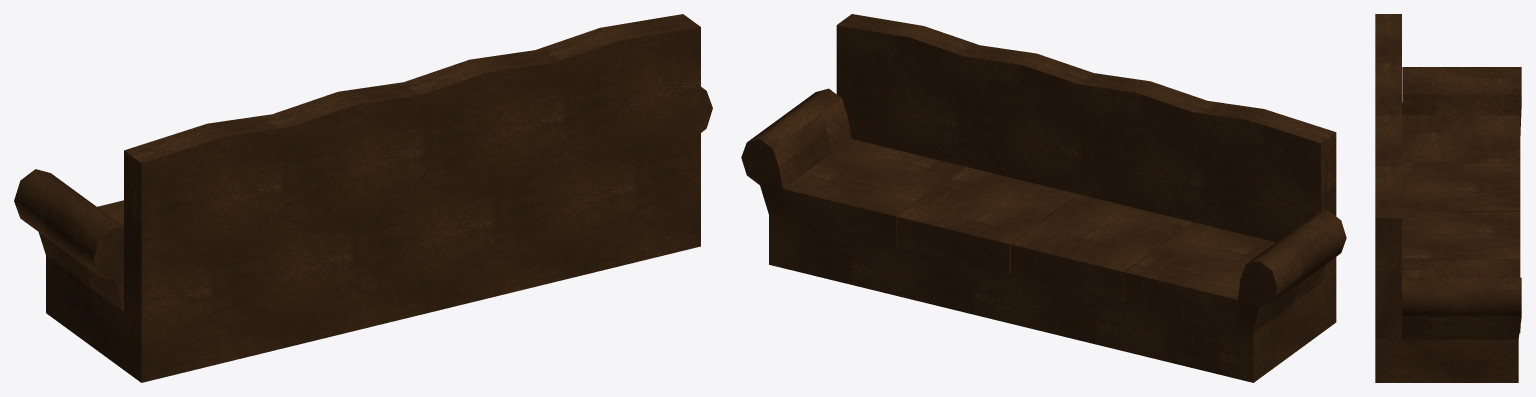
File: divan01.fbx
3 renders of one model, left to right at view 1: azimuth 30°, elevation 25°; view 2: azimuth 150°, elevation 25°; view 3: azimuth 270°, elevation 25°, orthographic. The views are drawn at different scales.
Visible parts, largest first — view 1: Цилиндр; view 2: Цилиндр; view 3: Цилиндр.
Part boxes in pixels (x1=…): Цилиндр: x1=14, y1=14, x2=712, y2=382; Цилиндр: x1=741, y1=14, x2=1346, y2=382; Цилиндр: x1=1375, y1=14, x2=1521, y2=382.
Size of the model in its own units: 280 by 97.63 by 76.37.
2 materials, 2 textured.
